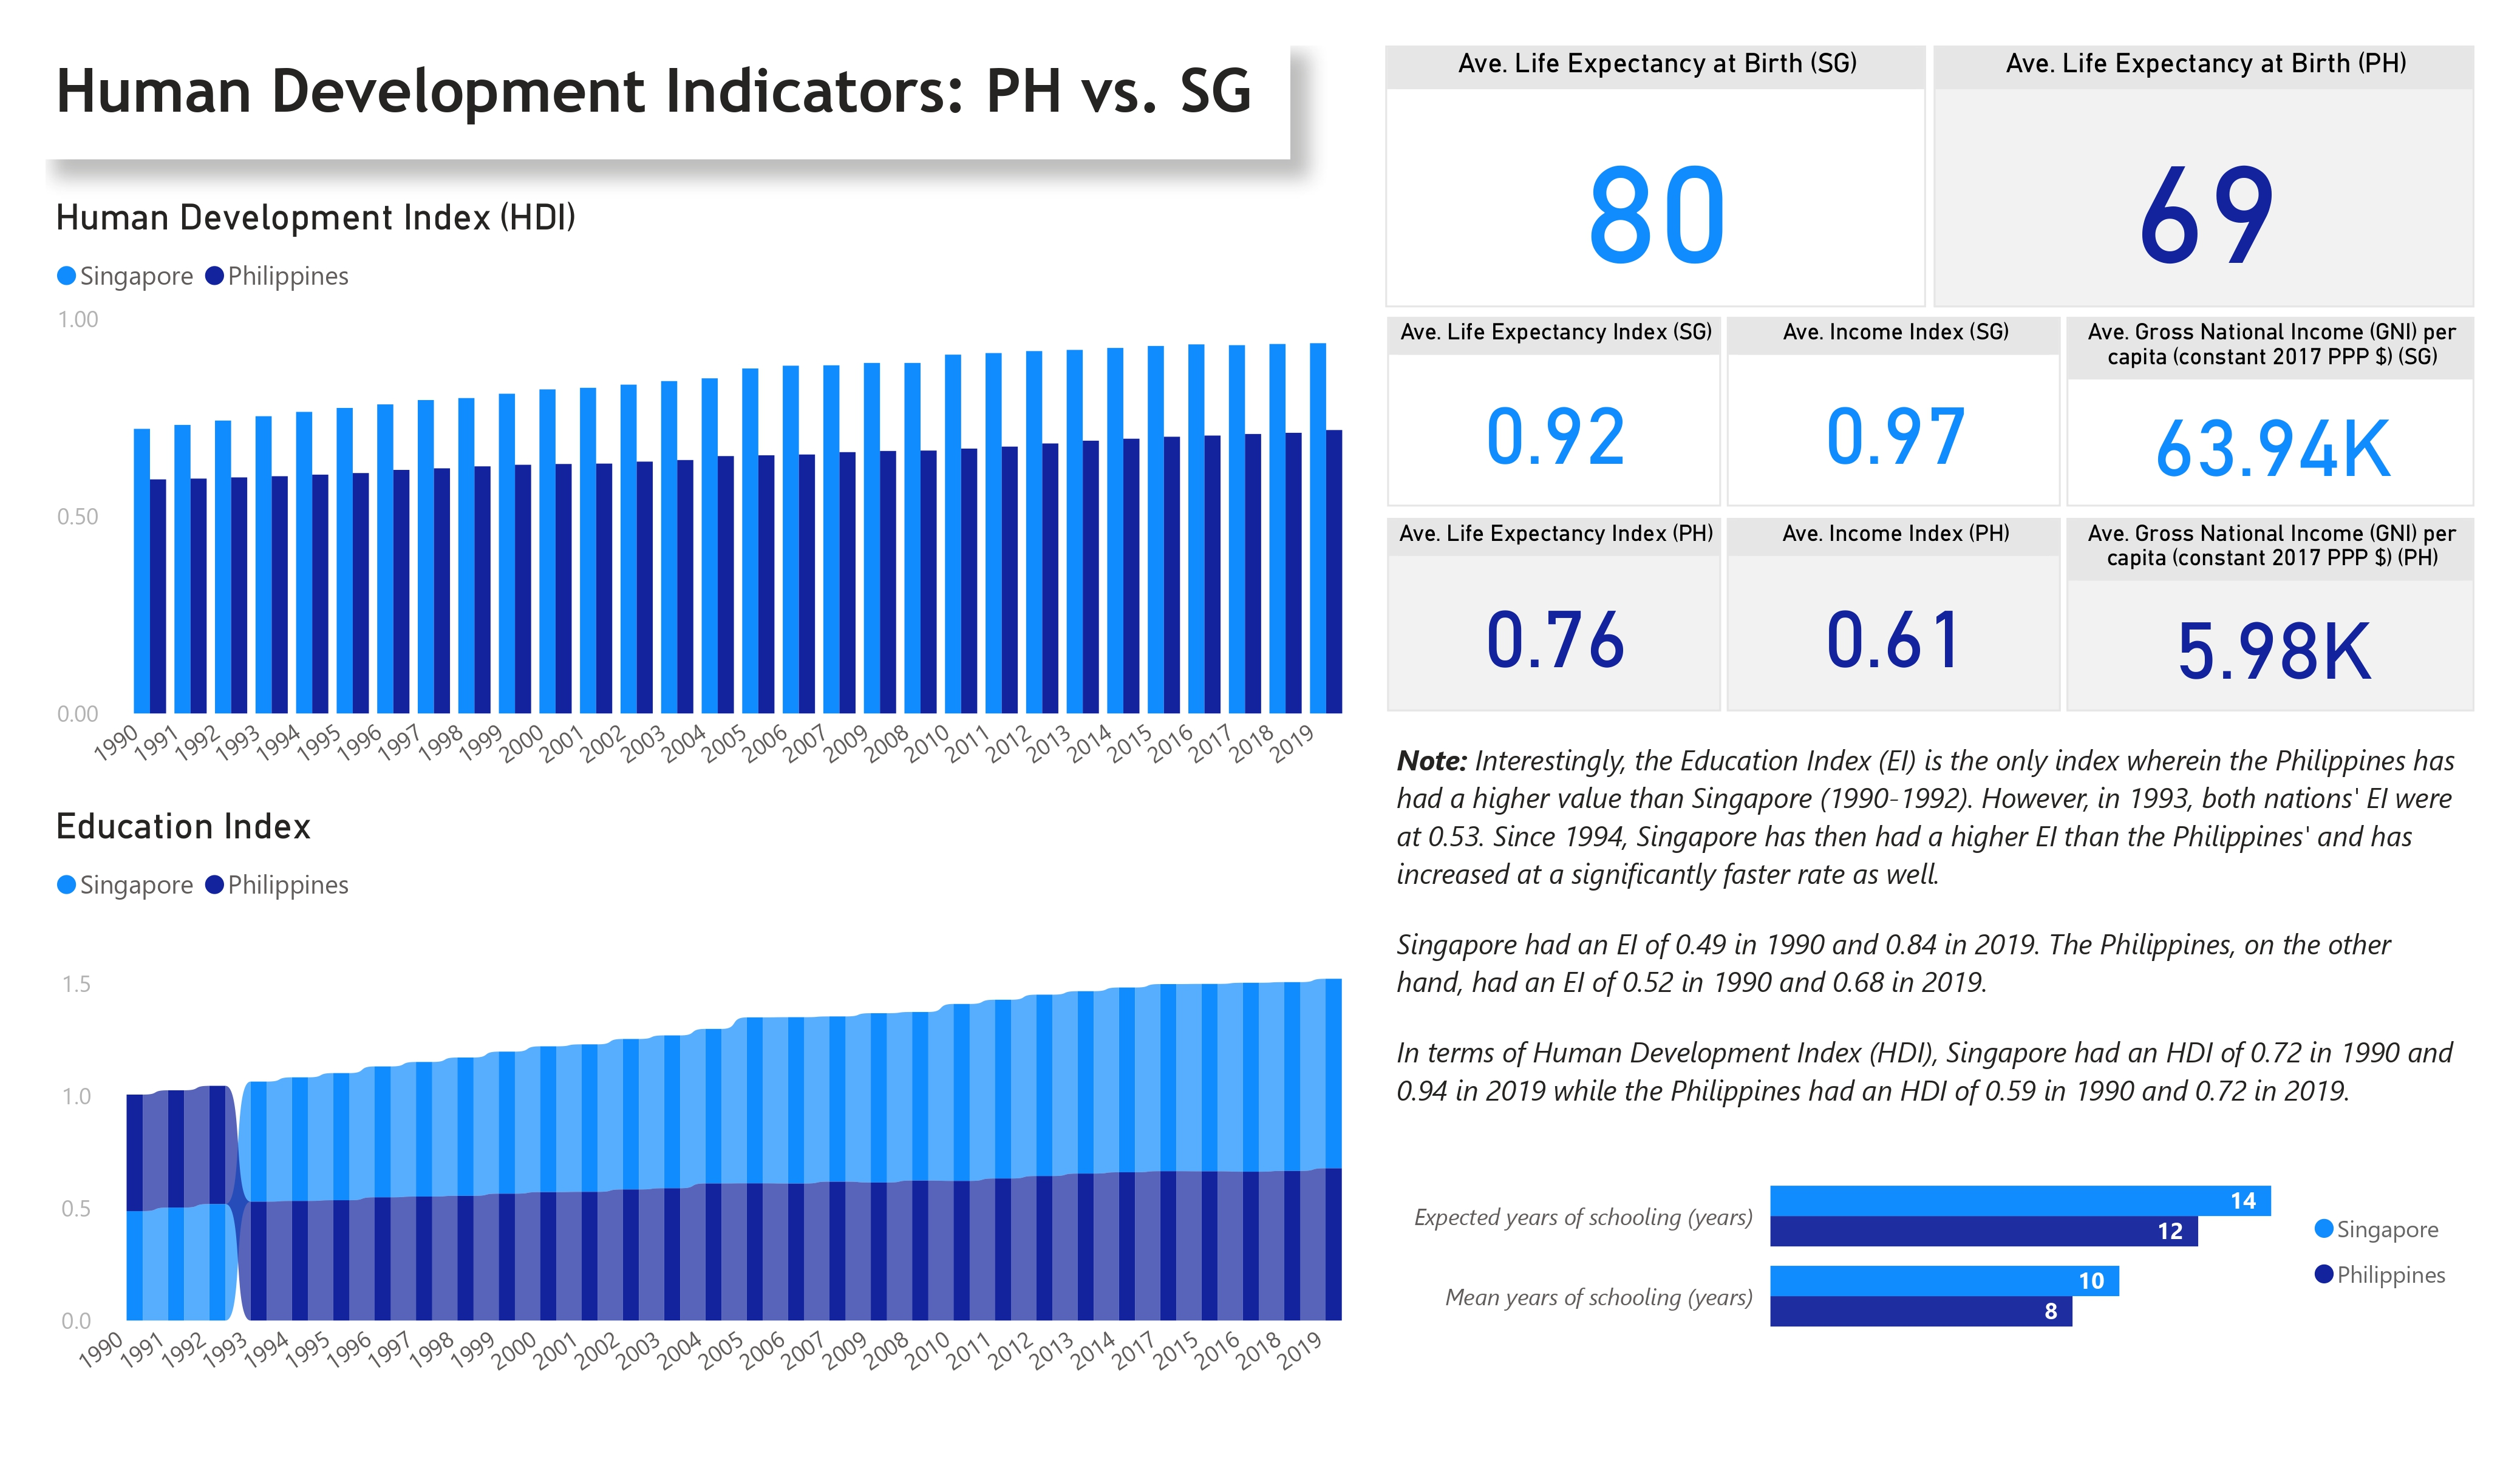

This screenshot's page, from the dashboard's own definition file:
{"tool":"powerbi","page":{"name":"Page 1","canvas":[1280,720],"ordinal":0},"visuals":[{"type":"clusteredBarChart","title":"Years of Schooling","fields":{"Category":["human-development-indicators-for-phl-sgp.Indicator Name"],"Series":["human-development-indicators-for-phl-sgp.Country Name"],"Y":["Avg(human-development-indicators-for-phl-sgp.Indicator Numerical Value)"]},"box":[696.8,559.9,583.1,160.1],"z":1500},{"type":"lineClusteredColumnComboChart","title":"Human Development Index (HDI)","fields":{"Category":["human-development-indicators-for-phl-sgp.Year"],"Series":["human-development-indicators-for-phl-sgp.Country Name"],"Y":["Sum(human-development-indicators-for-phl-sgp.Indicator Numerical Value)"]},"box":[0,79.5,696.8,320.3],"z":2000},{"type":"ribbonChart","title":"Education Index","fields":{"Category":["human-development-indicators-for-phl-sgp.Year"],"Y":["Sum(human-development-indicators-for-phl-sgp.Indicator Numerical Value)"],"Series":["human-development-indicators-for-phl-sgp.Country Name"]},"box":[0,399.7,696.8,320.3],"z":2500},{"type":"card","title":"Ave. Life Expectancy Index (PH)","fields":{"Values":["Avg(human-development-indicators-for-phl-sgp.Indicator Numerical Value)"]},"box":[706.6,249.4,176,101.5],"z":3000},{"type":"card","title":"Ave. Income Index (PH)","fields":{"Values":["Avg(human-development-indicators-for-phl-sgp.Indicator Numerical Value)"]},"box":[886.2,249.4,176,101.5],"z":3500},{"type":"card","title":"Ave. Life Expectancy Index (SG)","fields":{"Values":["Avg(human-development-indicators-for-phl-sgp.Indicator Numerical Value)"]},"box":[707,143,176,100],"z":4000},{"type":"card","title":"Ave. Income Index (SG)","fields":{"Values":["Avg(human-development-indicators-for-phl-sgp.Indicator Numerical Value)"]},"box":[886,143,176,100],"z":6000},{"type":"card","title":"Ave. Gross National Income (GNI) per capita (constant 2017 PPP $) (PH)","fields":{"Values":["Avg(human-development-indicators-for-phl-sgp.Indicator Numerical Value)"]},"box":[1064.7,249.4,215.1,101.5],"z":6250},{"type":"card","title":"Ave. Gross National Income (GNI) per capita (constant 2017 PPP $) (SG)","fields":{"Values":["Avg(human-development-indicators-for-phl-sgp.Indicator Numerical Value)"]},"box":[1065,143,215,100],"z":7000},{"type":"textbox","box":[0,0,656,60],"z":8500},{"type":"card","title":"Ave. Life Expectancy at Birth (PH)","fields":{"Values":["Avg(human-development-indicators-for-phl-sgp.Indicator Numerical Value)"]},"box":[995,0,284.8,138.1],"z":8750},{"type":"card","title":"Ave. Life Expectancy at Birth (SG)","fields":{"Values":["Avg(human-development-indicators-for-phl-sgp.Indicator Numerical Value)"]},"box":[706.2,0,285,138.1],"z":9000},{"type":"textbox","box":[706.6,360.6,573.3,226.1],"z":12000}]}

Visuals, with their boxes in screenshot pixels (x1, y1, x2, y2):
"Years of Schooling" clusteredBarChart: {"left": 1367, "top": 1108, "right": 2474, "bottom": 1411}
"Human Development Index (HDI)" lineClusteredColumnComboChart: {"left": 46, "top": 196, "right": 1367, "bottom": 804}
"Education Index" ribbonChart: {"left": 46, "top": 804, "right": 1367, "bottom": 1411}
"Ave. Life Expectancy Index (PH)" card: {"left": 1386, "top": 518, "right": 1720, "bottom": 712}
"Ave. Income Index (PH)" card: {"left": 1727, "top": 518, "right": 2061, "bottom": 712}
"Ave. Life Expectancy Index (SG)" card: {"left": 1387, "top": 317, "right": 1721, "bottom": 506}
"Ave. Income Index (SG)" card: {"left": 1727, "top": 317, "right": 2061, "bottom": 506}
"Ave. Gross National Income (GNI) per capita (constant 2017 PPP $) (PH)" card: {"left": 2066, "top": 518, "right": 2474, "bottom": 712}
"Ave. Gross National Income (GNI) per capita (constant 2017 PPP $) (SG)" card: {"left": 2066, "top": 317, "right": 2474, "bottom": 506}
textbox: {"left": 46, "top": 46, "right": 1290, "bottom": 159}
"Ave. Life Expectancy at Birth (PH)" card: {"left": 1933, "top": 46, "right": 2474, "bottom": 308}
"Ave. Life Expectancy at Birth (SG)" card: {"left": 1386, "top": 46, "right": 1926, "bottom": 308}
textbox: {"left": 1386, "top": 730, "right": 2474, "bottom": 1158}
